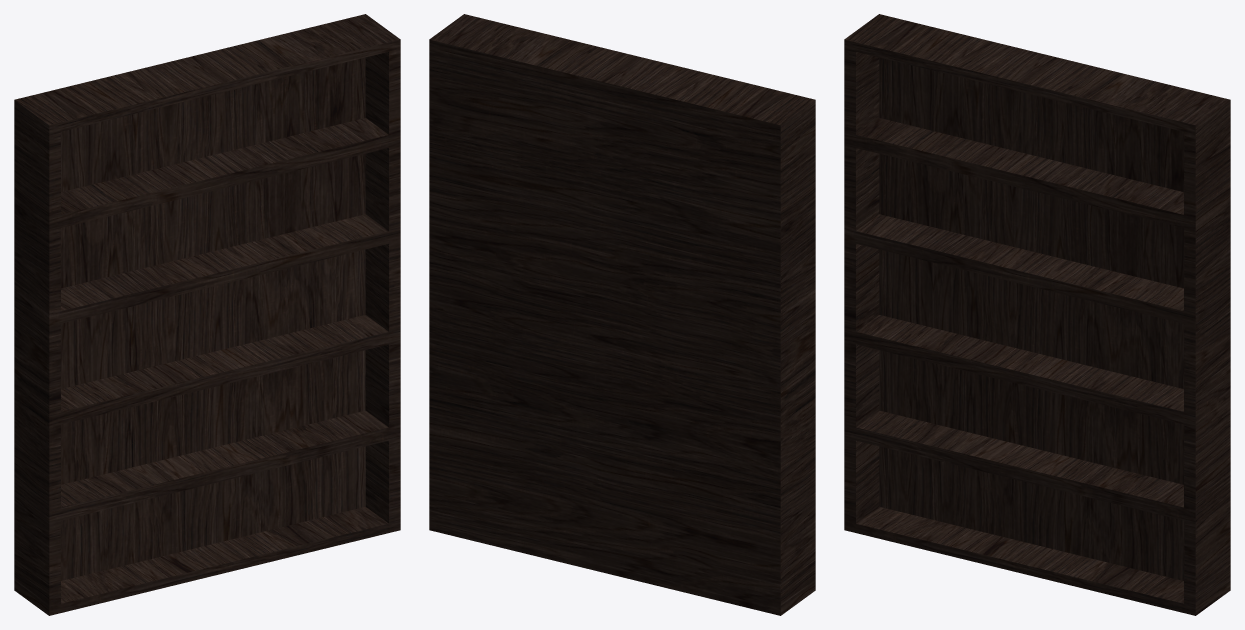
The model's file is basic_bookcase.glb.
3 renders of one model, left to right at view 1: azimuth 30°, elevation 25°; view 2: azimuth 150°, elevation 25°; view 3: azimuth 330°, elevation 25°, orthographic.
Parts seen in each view (by area): view 1: Object_2; view 2: Object_2; view 3: Object_2.
Boxes of the visible parts, bbox=[...] form: Object_2: bbox=[14, 14, 400, 615]; Object_2: bbox=[429, 14, 815, 615]; Object_2: bbox=[844, 14, 1230, 615].
Size of the model in its own units: 5.7 by 7.6 by 0.9828.
1 material, 1 textured.
